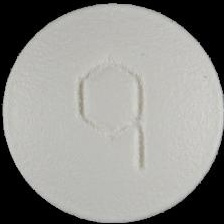0615-1573: (0, 0, 224, 224)
